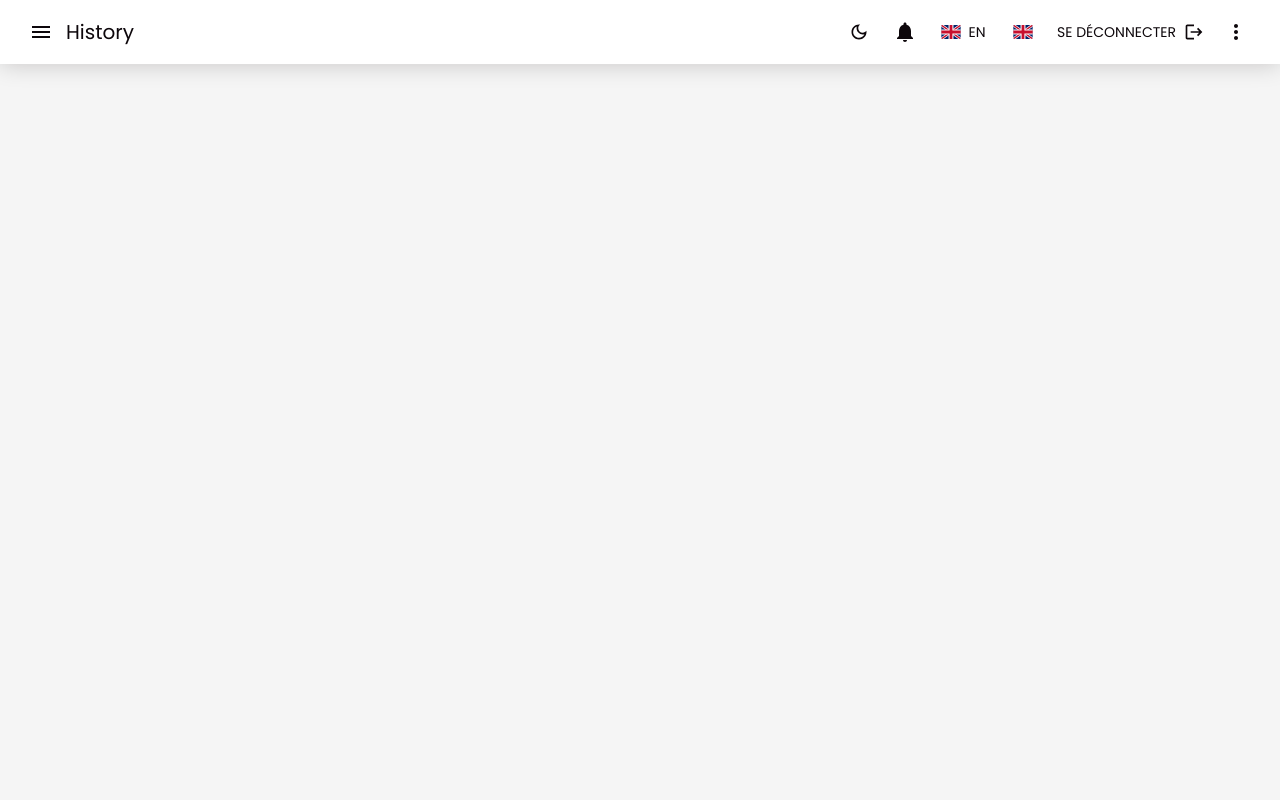
NavigationBar › closes the mobile drawer when opening Changelog
Click the button named "Ouvrir/fermer le menu".
click(41, 32)  # box [24,15,58,49]
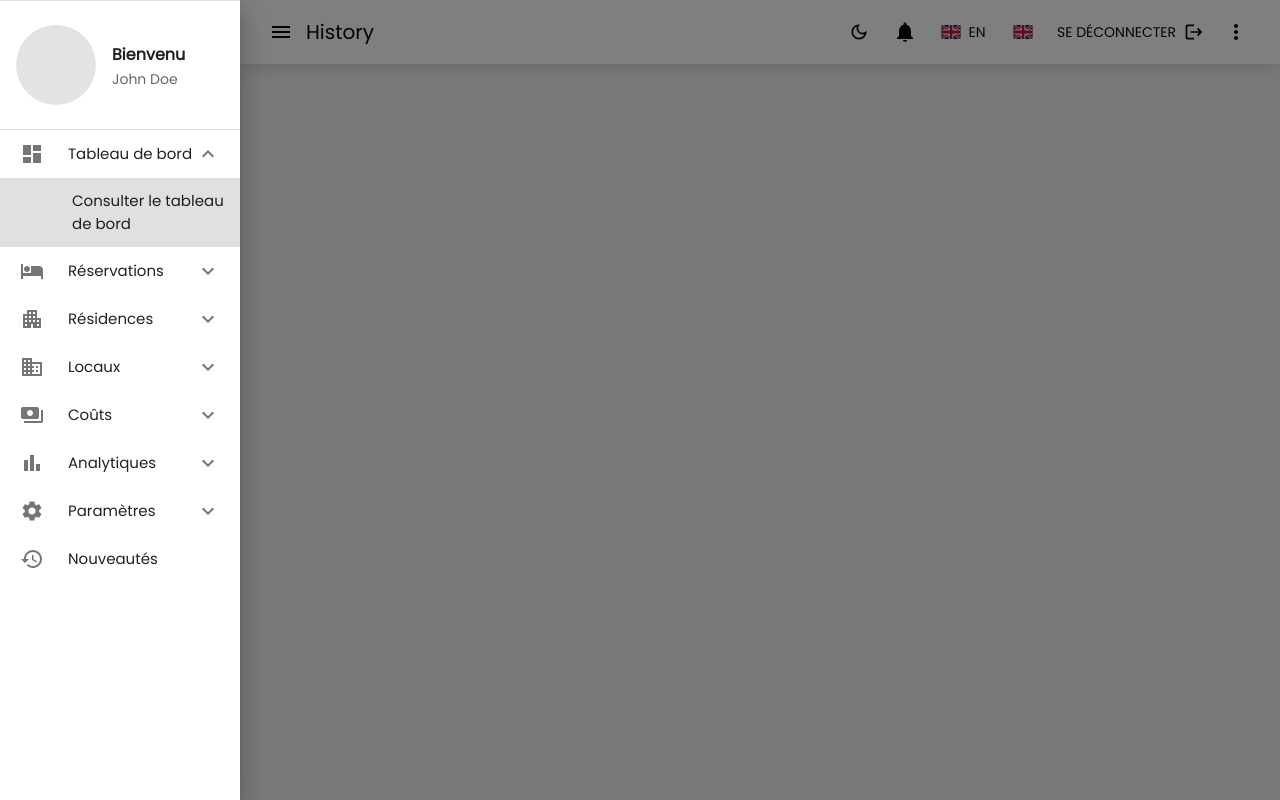
Click the link "Nouveautés".
click(89, 559)  # box [20,547,158,571]
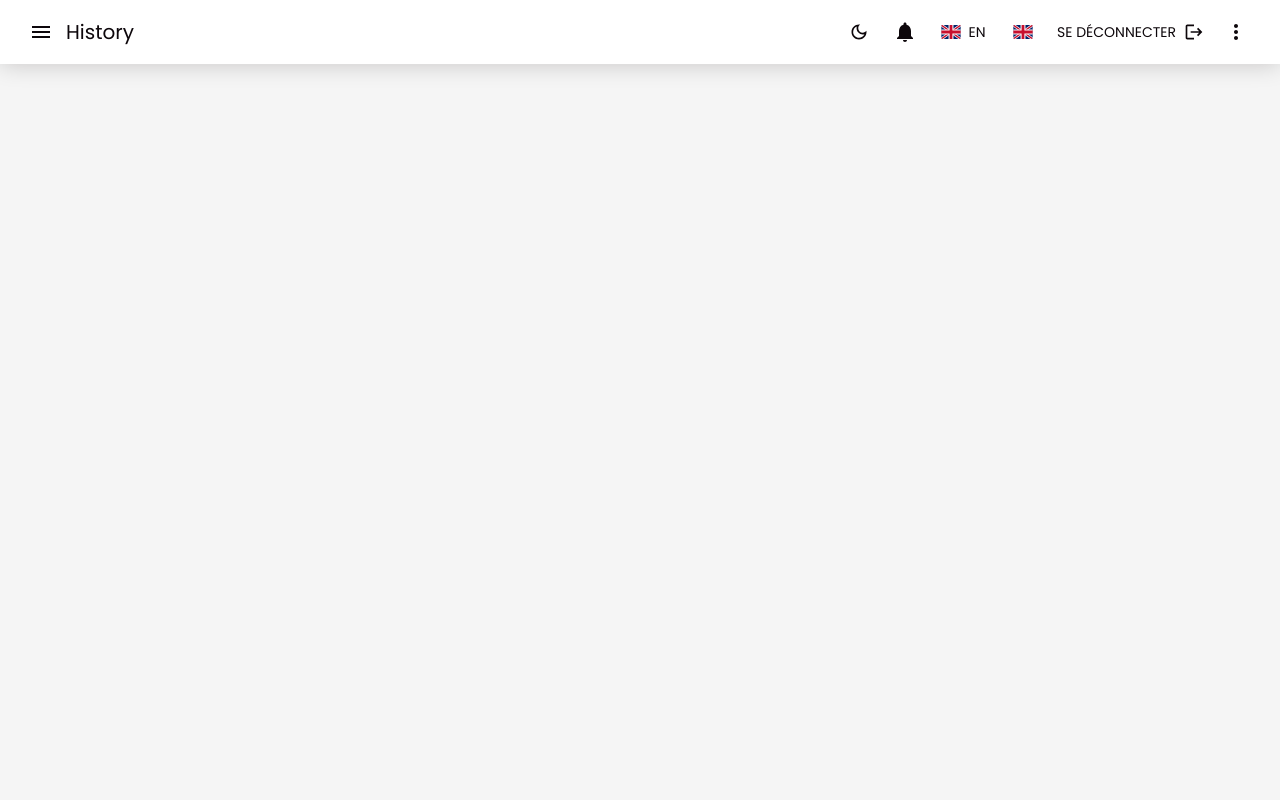
Result: the link "Nouveautés" is gone
